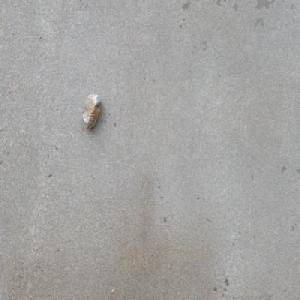Rock: (82, 92, 102, 132)
